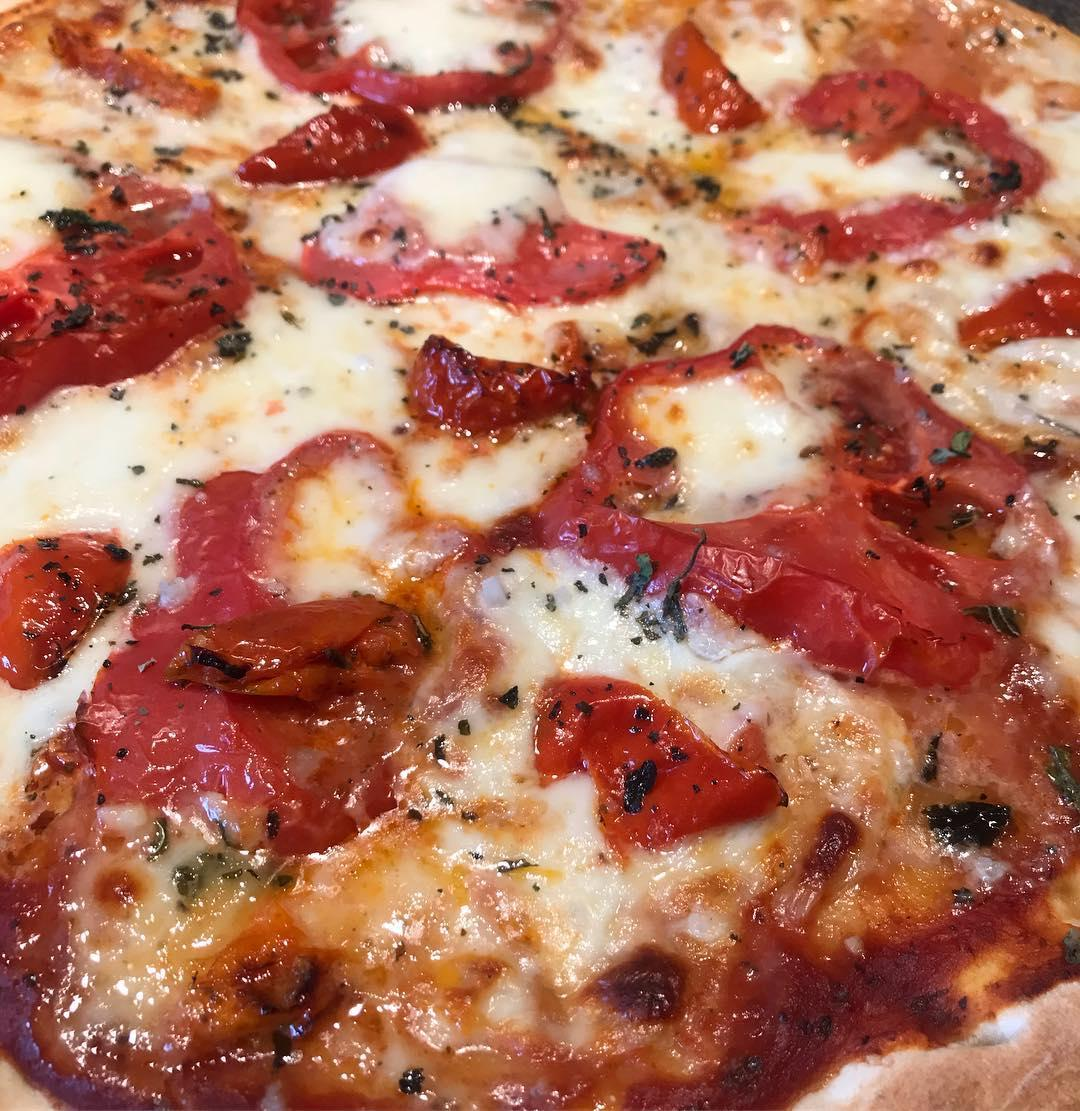Pizza: (0, 0, 1080, 1111)
Tomatoes: (546, 331, 1049, 671), (139, 427, 498, 836), (655, 20, 1055, 266), (288, 128, 667, 310), (0, 155, 253, 423), (528, 671, 789, 860), (225, 0, 588, 111), (0, 523, 139, 697)
